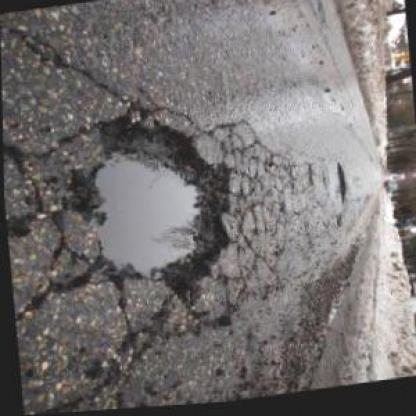pothole: (54, 97, 247, 319), (333, 168, 349, 209)
